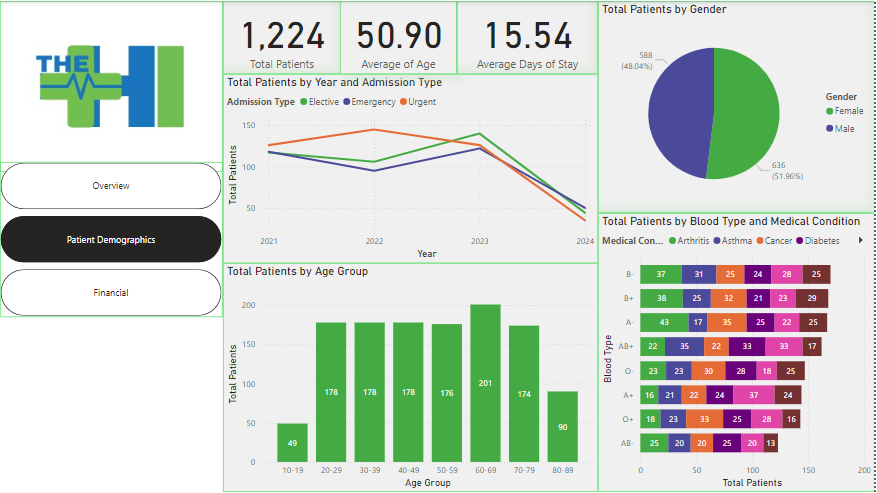

Layout of this report page (visuals, bound fields, positions):
{"tool":"powerbi","page":{"name":"Patient Demographics","canvas":[1280,720],"ordinal":1},"visuals":[{"type":"card","fields":{"Values":["_Measure.Total_Number_Patient"]},"box":[325.7,0,172.5,107.4],"z":0},{"type":"lineChart","fields":{"Category":["healthcare_dataset.Date of Admission.Variation.Date Hierarchy.Year","healthcare_dataset.Date of Admission.Variation.Date Hierarchy.Quarter","healthcare_dataset.Date of Admission.Variation.Date Hierarchy.Month","healthcare_dataset.Date of Admission.Variation.Date Hierarchy.Day"],"Series":["healthcare_dataset.Admission Type"],"Y":["_Measure.Total_Number_Patition"]},"box":[326.3,106.8,548.8,276.6],"z":1000},{"type":"card","fields":{"Values":["Avg(healthcare_dataset.Age)"]},"box":[498.3,0,170.8,107.4],"z":3000},{"type":"pieChart","fields":{"Category":["healthcare_dataset.Gender"],"Y":["_Measure.Total_Number_Patient"]},"box":[875.1,0,405.4,310.2],"z":4000},{"type":"columnChart","fields":{"Category":["healthcare_dataset.Age Group"],"Y":["_Measure.Total_Number_Patient"]},"box":[326.3,383.4,548.8,335.1],"z":5000},{"type":"barChart","fields":{"Category":["healthcare_dataset.Blood Type"],"Y":["_Measure.Total Patients"],"Series":["healthcare_dataset.Medical Condition"]},"box":[875.1,310.2,405.4,408.3],"z":6000},{"type":"image","box":[0,0,325.9,250.3],"z":7000},{"type":"pageNavigator","box":[0,235.2,325.9,226.8],"z":8000},{"type":"card","fields":{"Values":["Avg(healthcare_dataset.Length of Stay)"]},"box":[669.1,0,206,107.4],"z":12000}]}

Visuals, with their boxes in screenshot pixels (x1, y1, x2, y2), scaled from the page's 1280x720 canvas onto the 877x493 screenshot:
card - _Measure.Total_Number_Patient: 223:0:341:74
lineChart - healthcare_dataset.Date of Admission.Variation.Date Hierarchy.Year x healthcare_dataset.Date of Admission.Variation.Date Hierarchy.Quarter: 224:73:600:263
card - Avg(healthcare_dataset.Age): 341:0:458:74
pieChart - healthcare_dataset.Gender x _Measure.Total_Number_Patient: 600:0:876:212
columnChart - healthcare_dataset.Age Group x _Measure.Total_Number_Patient: 224:263:600:492
barChart - healthcare_dataset.Blood Type x _Measure.Total Patients: 600:212:876:492
image: 0:0:223:171
pageNavigator: 0:161:223:316
card - Avg(healthcare_dataset.Length of Stay): 458:0:600:74
